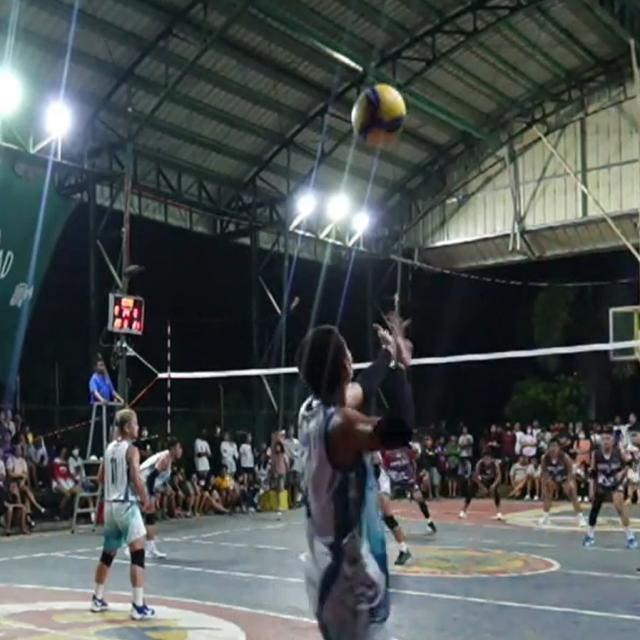volleyball: (351, 84, 406, 148)
